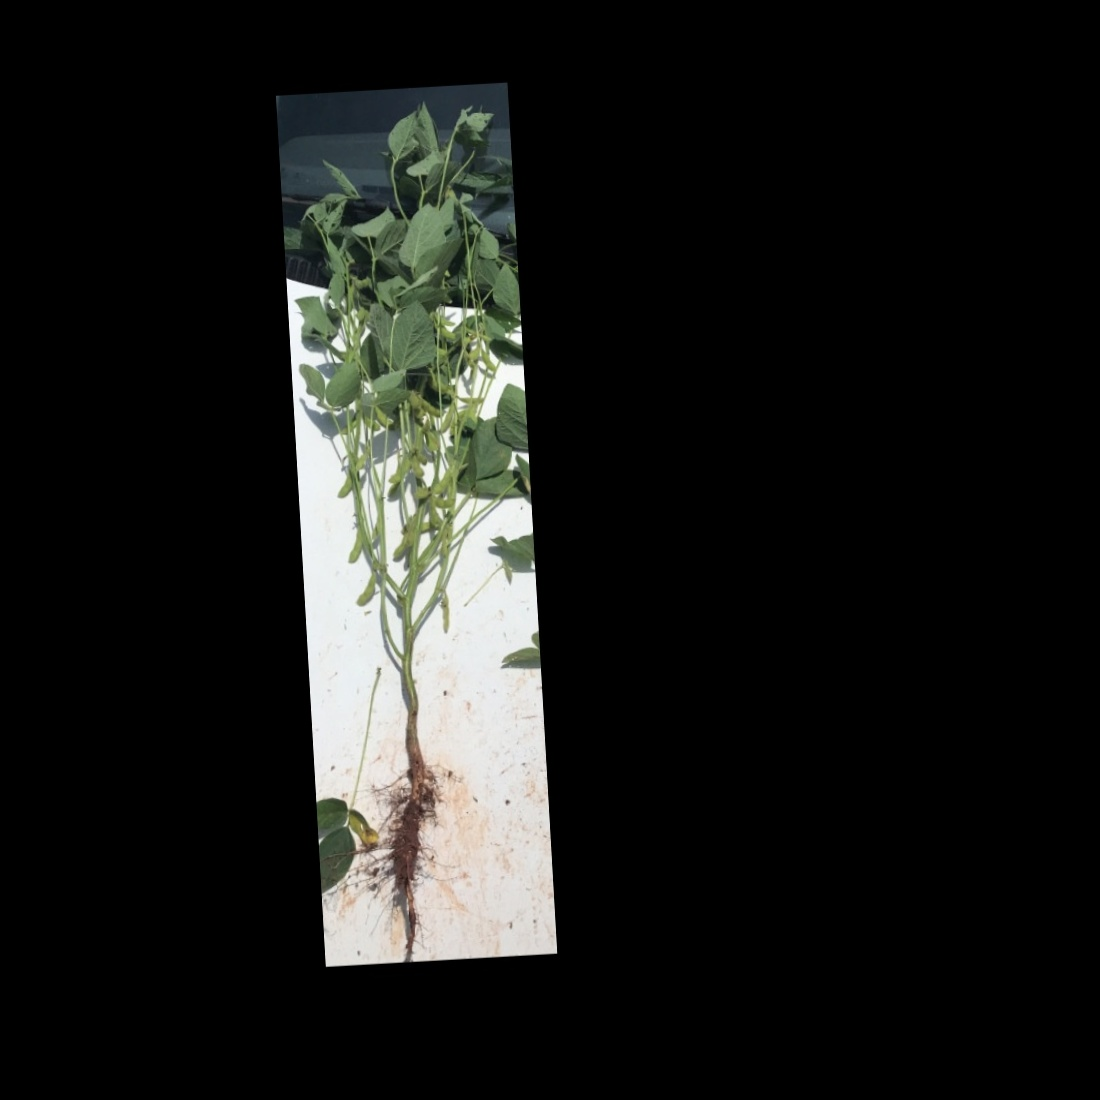pod: (347, 569, 381, 612), (343, 523, 366, 568), (435, 403, 456, 439), (373, 406, 396, 432), (333, 469, 353, 501), (482, 346, 498, 376), (429, 495, 460, 510)
soy: (285, 105, 538, 912)
